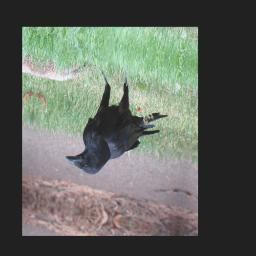Crow: (63, 61, 172, 192)
